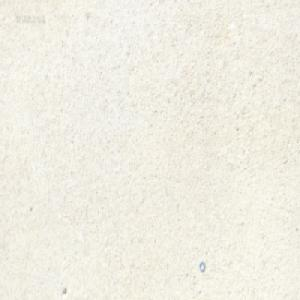Washer: (199, 261, 205, 273)
